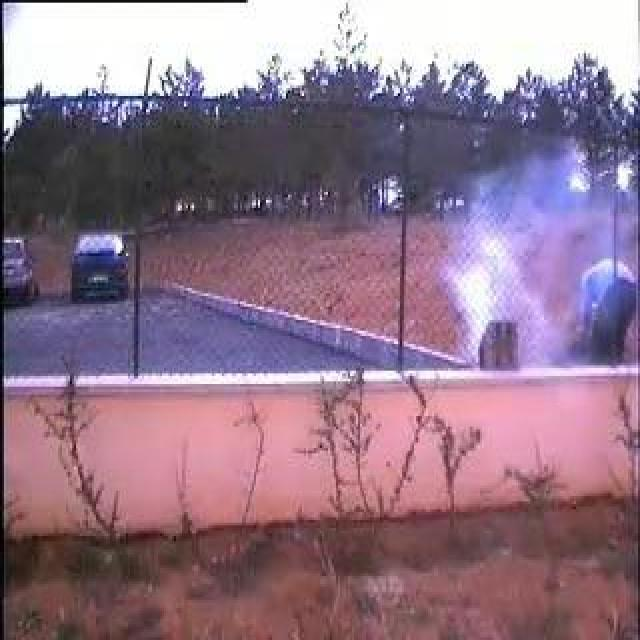Smoke: (449, 156, 613, 364)
